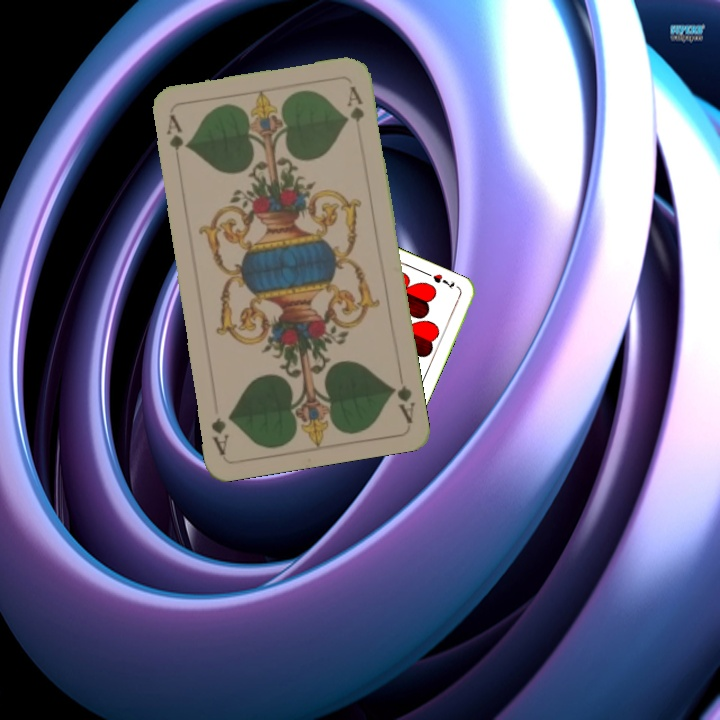GA: (162, 110, 186, 169), (387, 381, 418, 425)
H7: (429, 270, 457, 291)
